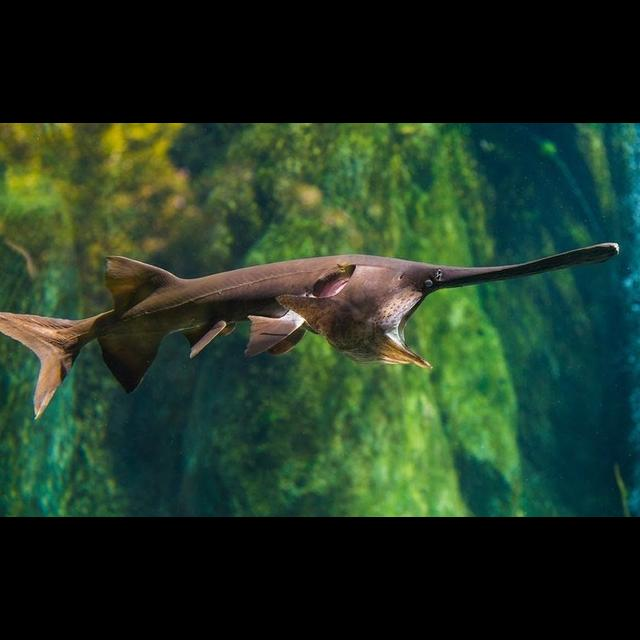fish: (0, 228, 625, 425)
